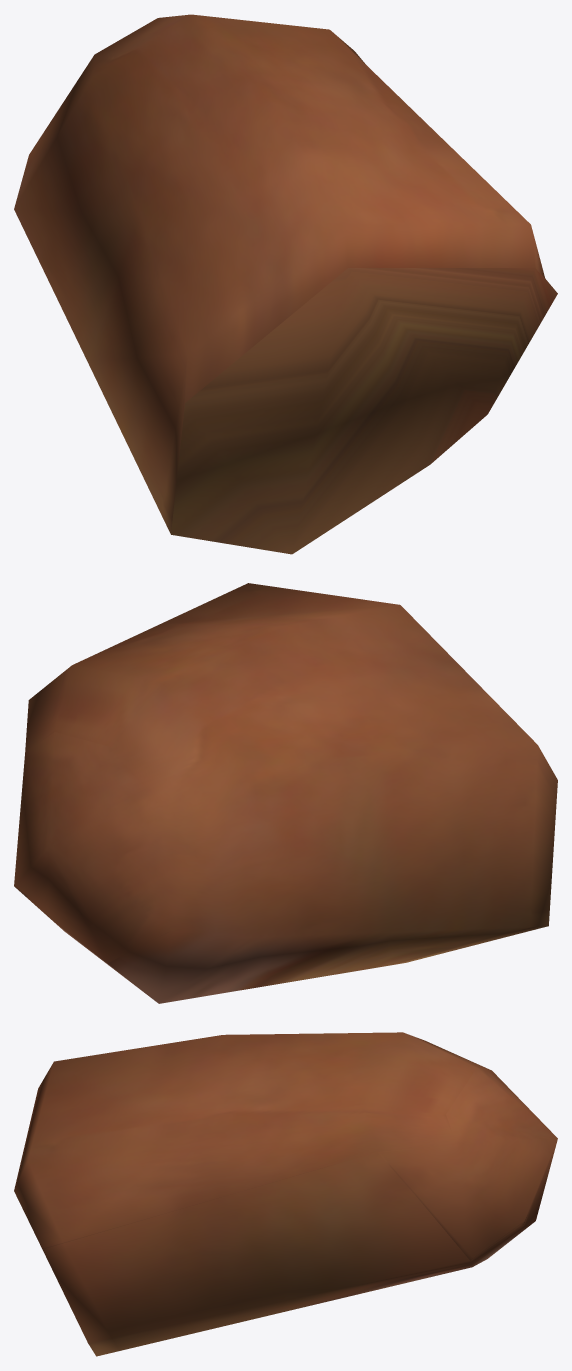
Rendered from thumb_03_l.dae.
3 renders of one model, top to bottom at view 1: azimuth 30°, elevation 25°; view 2: azimuth 150°, elevation 25°; view 3: azimuth 270°, elevation 25°, orthographic. The views are drawn at different scales.
Visible parts, largest first — view 1: thumb_3_l; view 2: thumb_3_l; view 3: thumb_3_l.
Boxes of the visible parts, box(x1,y1,x2,y2) form: thumb_3_l: box(14, 14, 557, 554); thumb_3_l: box(14, 583, 557, 1003); thumb_3_l: box(14, 1032, 557, 1356).
Size of the model in its own units: 0.022 by 0.032 by 0.0225.
1 material, 1 textured.
